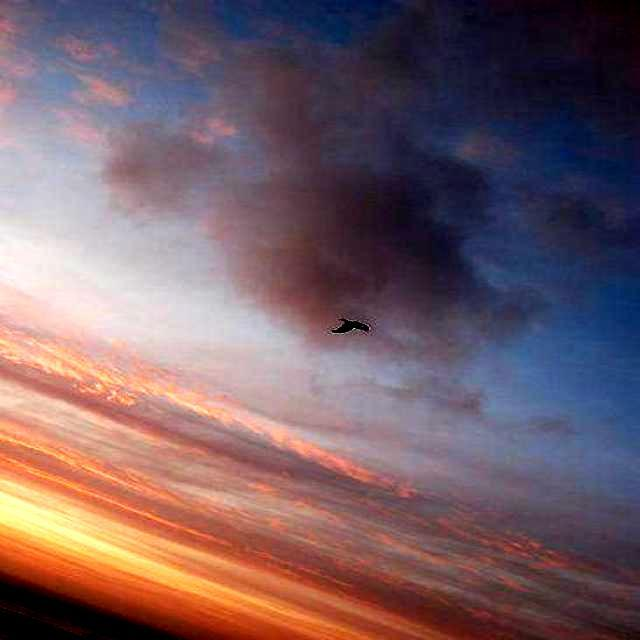bird: (328, 316, 368, 334)
